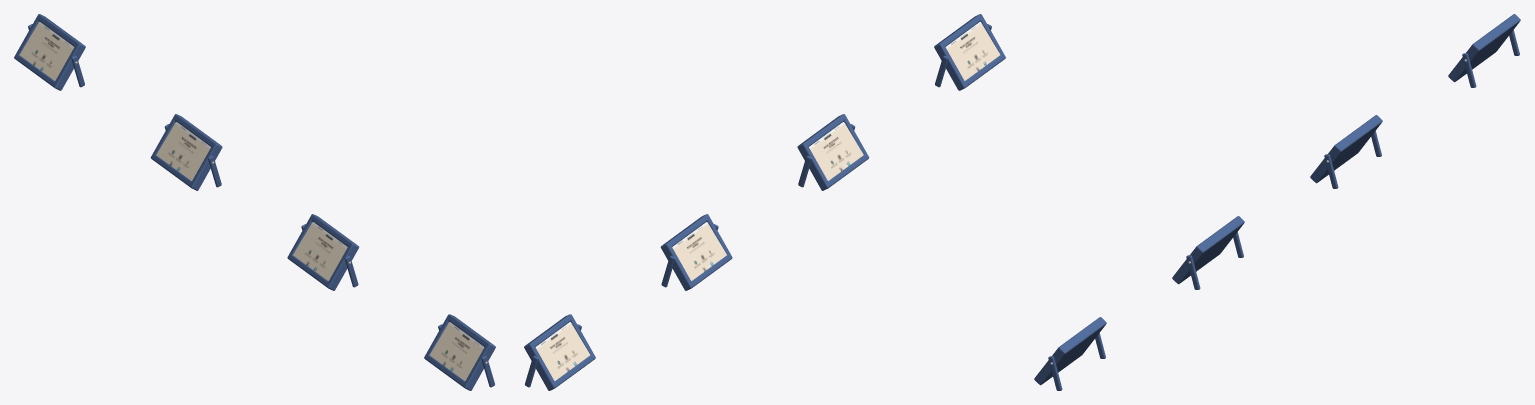
File: billboard15.gltf
3 renders of one model, left to right at view 1: azimuth 30°, elevation 25°; view 2: azimuth 150°, elevation 25°; view 3: azimuth 330°, elevation 25°, orthographic.
Parts seen in each view (by area): view 1: Cube.006; view 2: Cube.006; view 3: Cube.006.
Part boxes in pixels (box(x1,y1,x2,y2)): Cube.006: box(14, 14, 495, 390); Cube.006: box(524, 14, 1005, 390); Cube.006: box(1034, 14, 1520, 390).
Bounding box in the file's own units: 0.4599 × 0.5997 × 11.64.
Materials: 4 (2 with a texture image).
